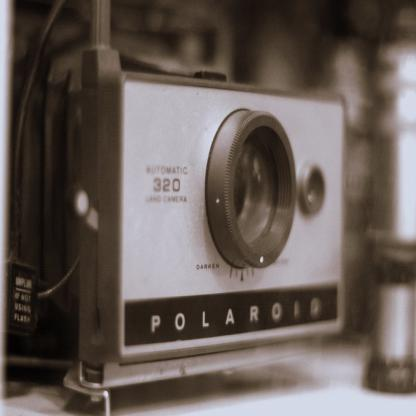Camera: (13, 1, 348, 416)
